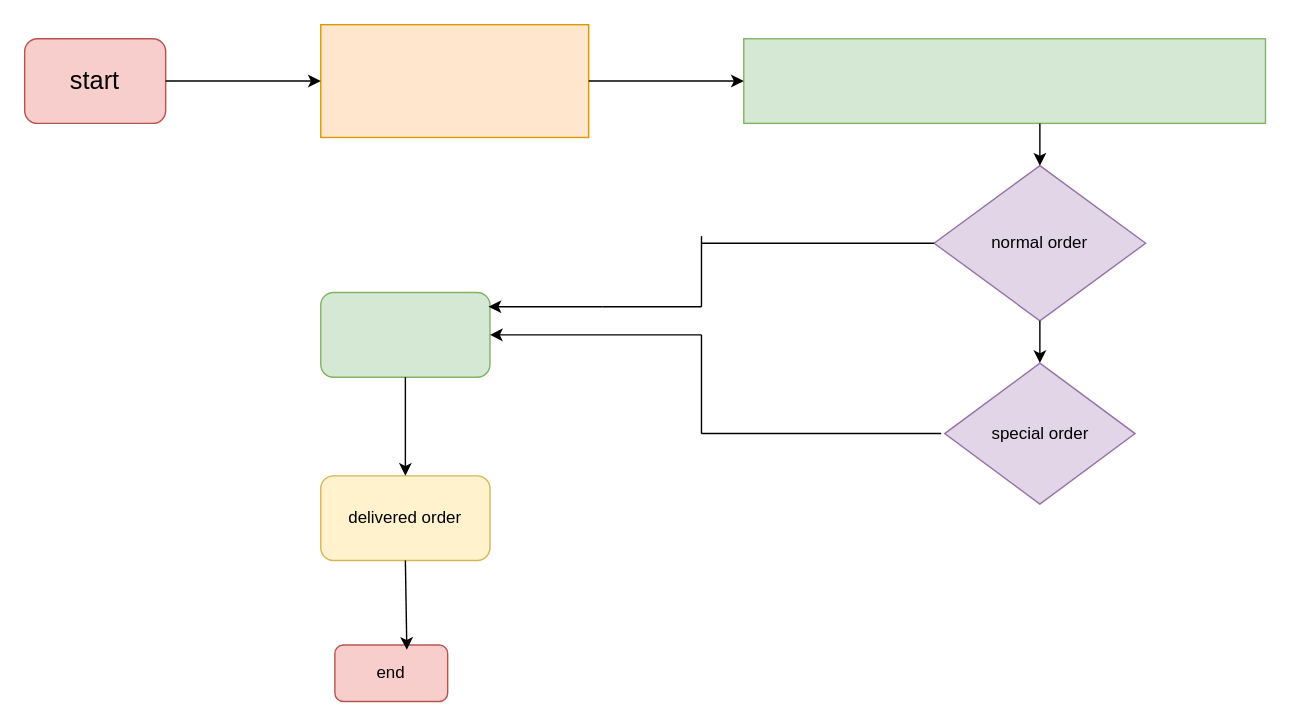
This 1290x726 diagram has some shape labels left out. The shapes that lost their labels are listed below. From the top down, each one's centre as x and y in pixels, then its label:
pixel 454 80: customer order
pixel 1003 80: order request receipt order
pixel 404 334: confirm order
